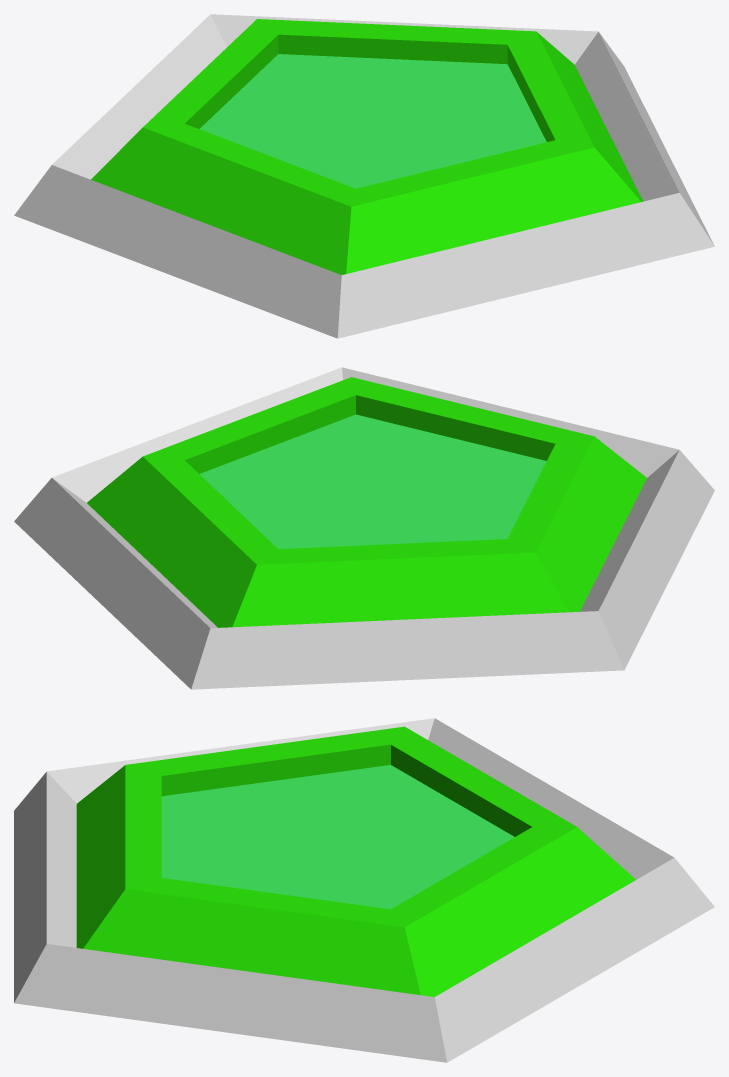
File: button.fbx
3 views of the same model, one above another, from view 1: azimuth 30°, elevation 25°; view 2: azimuth 150°, elevation 25°; view 3: azimuth 270°, elevation 25° (orthographic). The views are drawn at different scales.
Parts seen in each view (by area): view 1: Icosphere; view 2: Icosphere; view 3: Icosphere.
Part boxes in pixels (left/top/right/bottom): Icosphere: left=14, top=14, right=714, bottom=338; Icosphere: left=14, top=367, right=714, bottom=689; Icosphere: left=14, top=718, right=714, bottom=1062.
Size of the model in its own units: 402 by 68.44 by 383.
